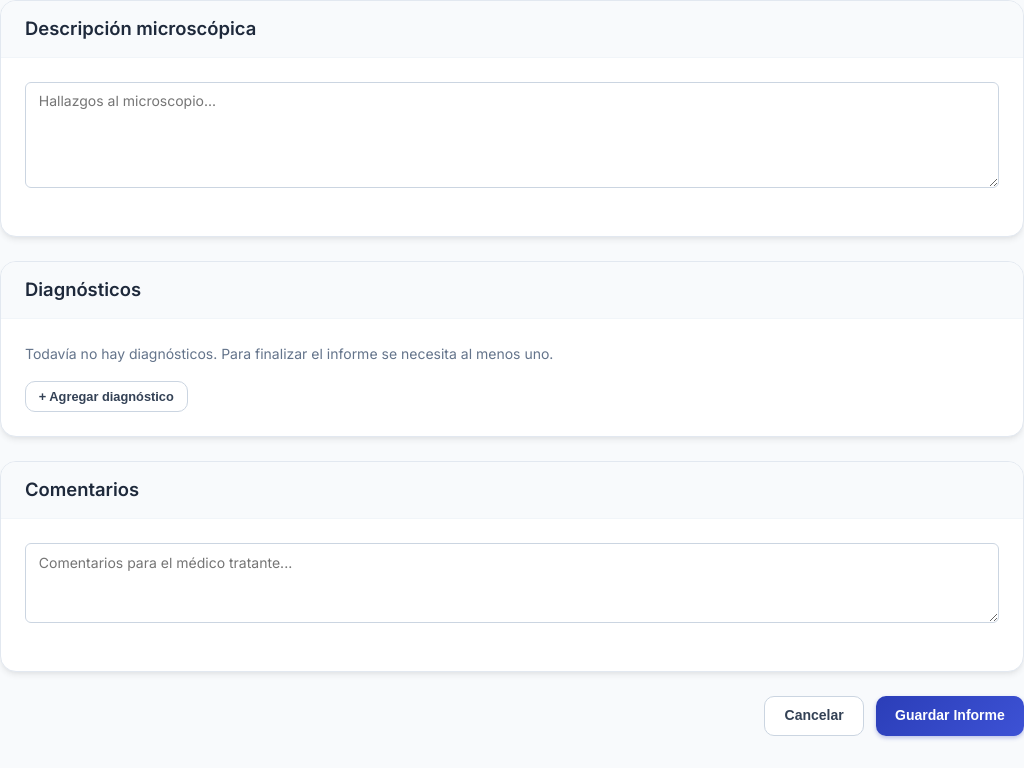
Test: InformePage: no perder lo escrito (D-13) › "Guardar y salir" no sale si falla la validación y muestra qué falta
(page scrolled)
Type "Sin paciente" into the text box labelled "Comentarios" at coordinates (512, 583), box [25,543,999,623]
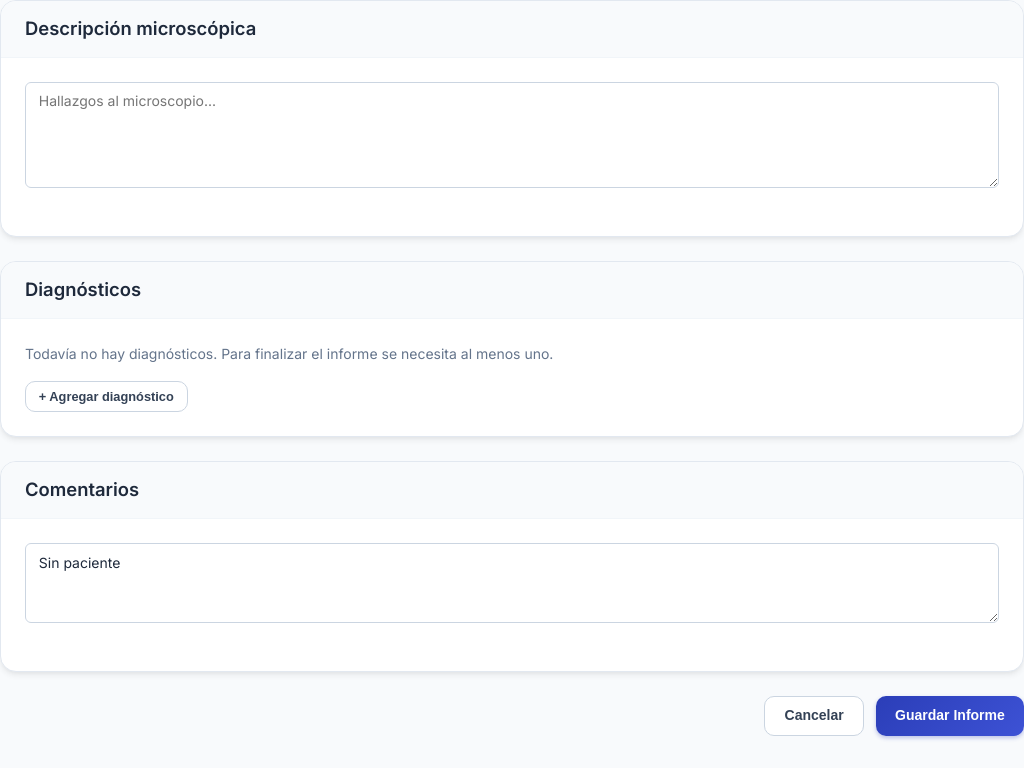
Click the button "Cancelar" at coordinates (814, 716), box [764,696,864,736]
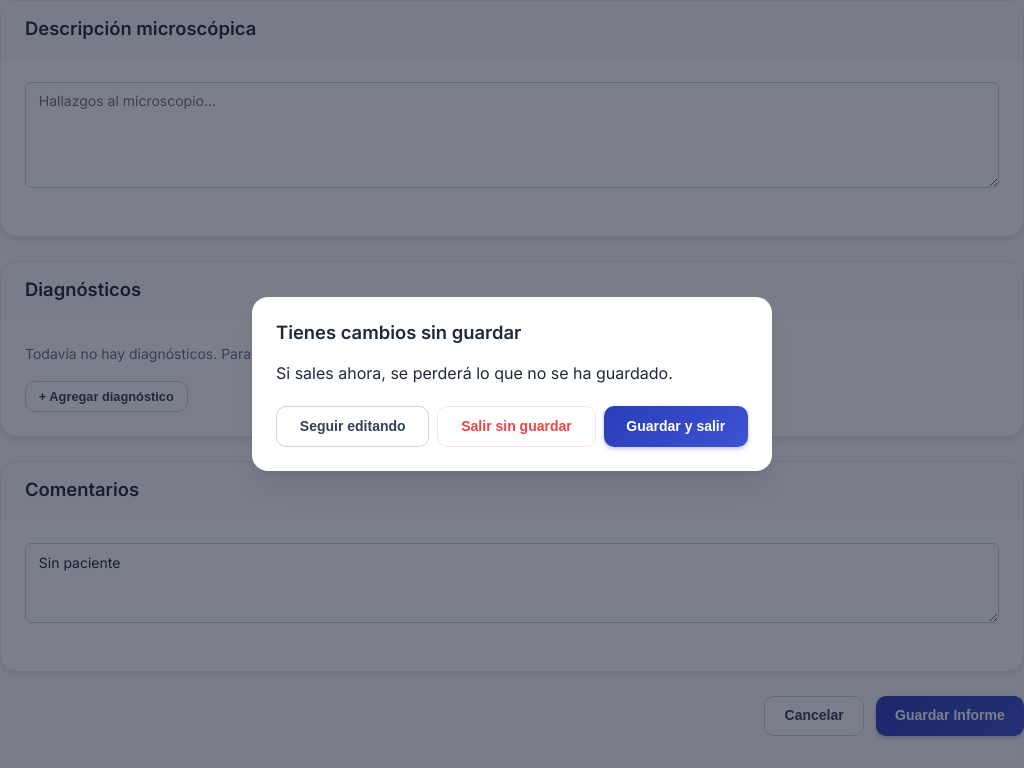
Click the button "Guardar y salir" at coordinates (676, 427), box [604,406,748,447]
(page scrolled)
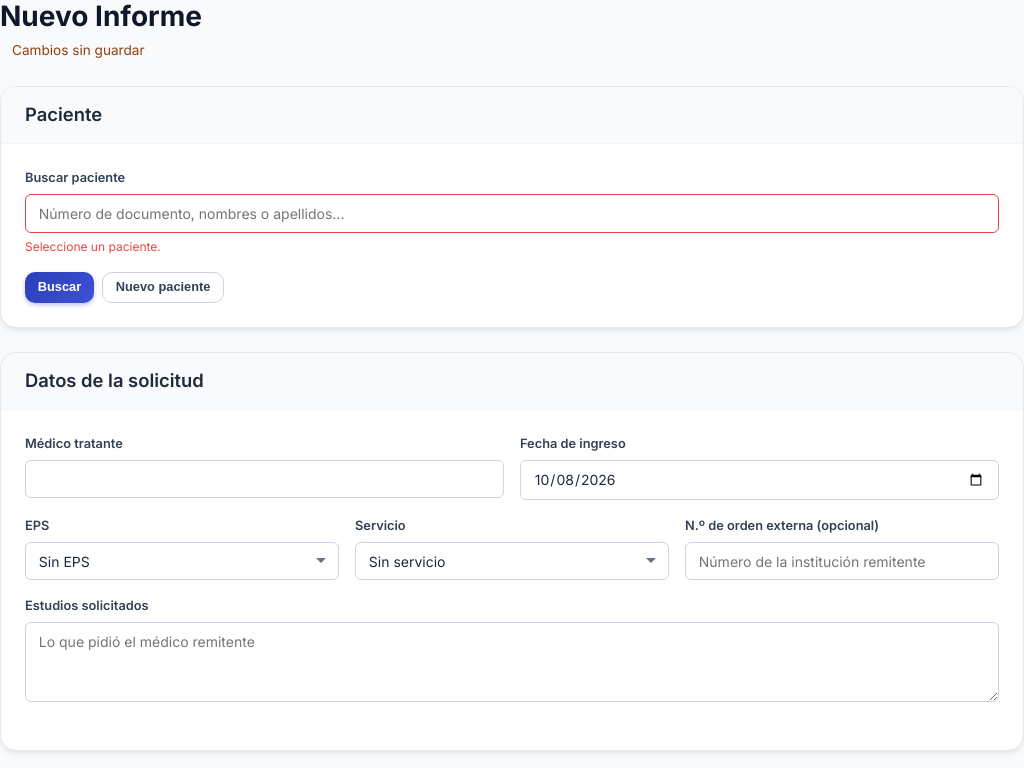
expect the text "Seleccione un paciente." is shown: met, box [25,238,161,254]
